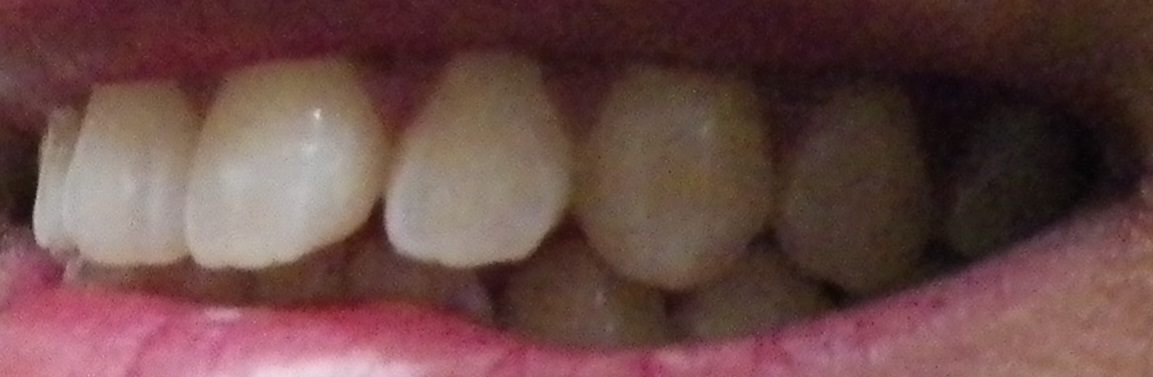boca: (31, 57, 1077, 328)
